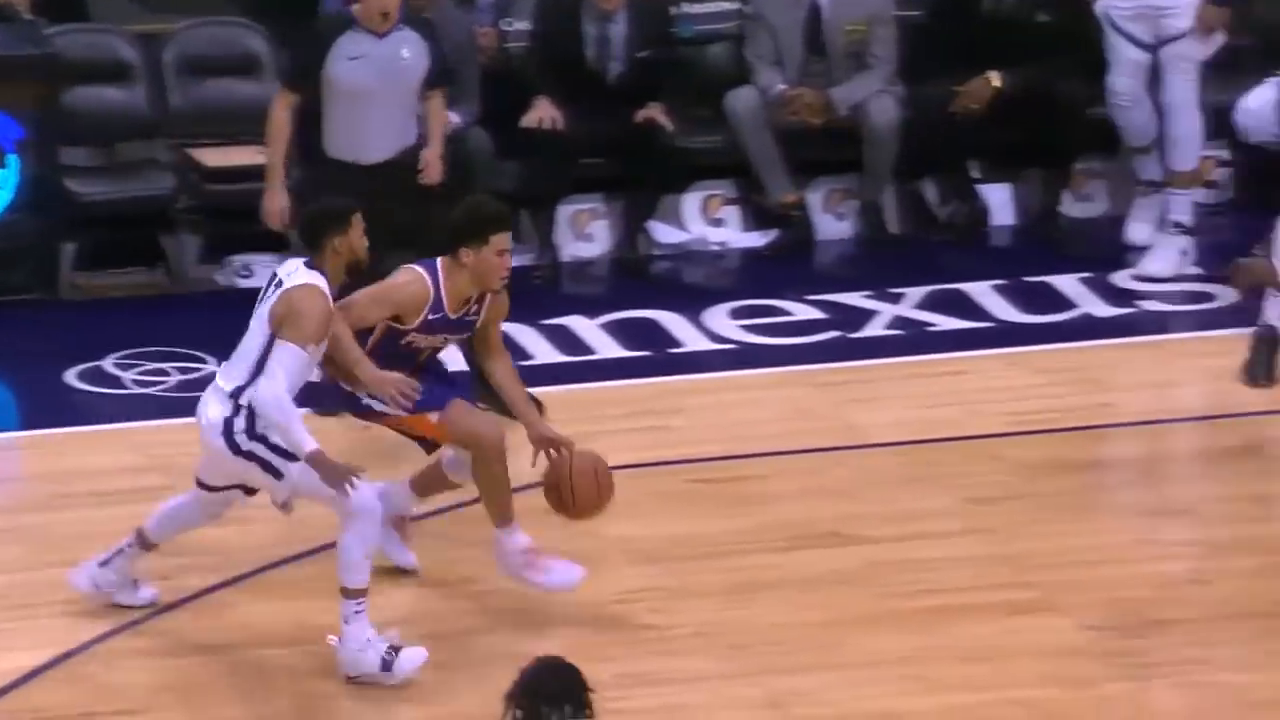ball: (549, 444, 616, 521)
